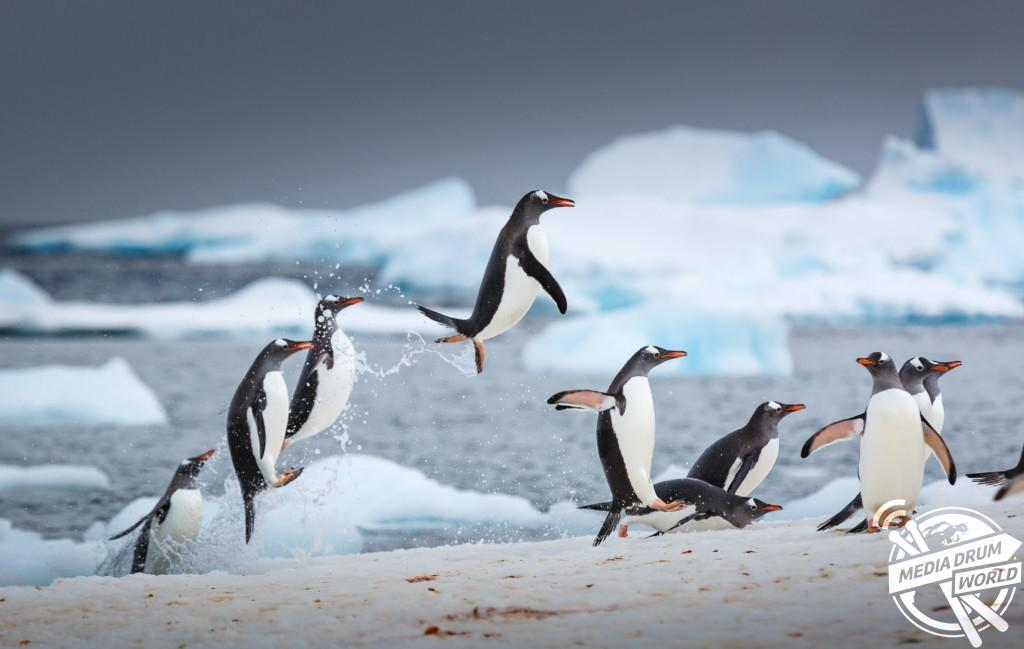Penguin: (415, 190, 575, 375), (547, 345, 688, 546), (800, 352, 956, 533), (226, 338, 313, 541), (110, 448, 214, 574), (282, 294, 364, 447), (686, 401, 806, 497), (619, 477, 783, 537), (899, 356, 948, 429), (924, 360, 962, 434), (816, 493, 862, 532)
